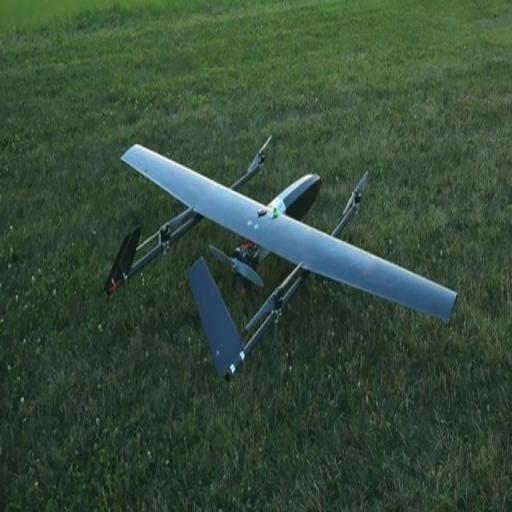uav: (104, 81, 464, 400)
